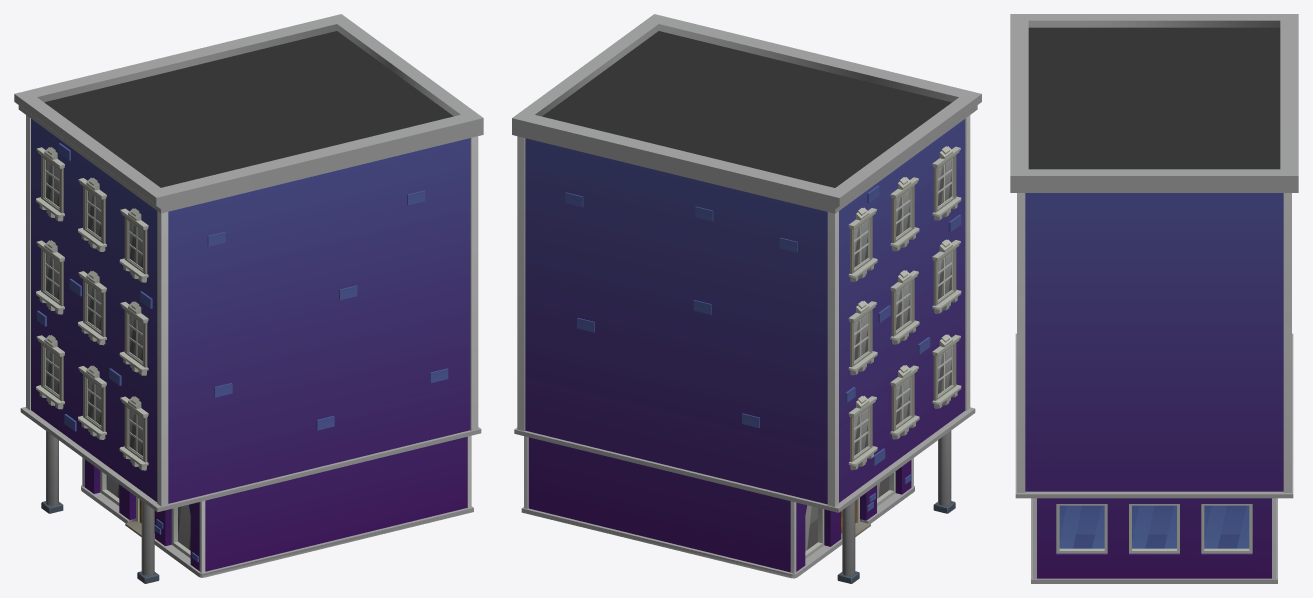
Rendered from Building_4_E.glb.
3 views of the same model, side by side, from view 1: azimuth 30°, elevation 25°; view 2: azimuth 150°, elevation 25°; view 3: azimuth 270°, elevation 25° (orthographic).
Parts seen in each view (by area): view 1: Building_4_E; view 2: Building_4_E; view 3: Building_4_E.
Boxes of the visible parts, <box> form: Building_4_E: <box>14,14,483,583</box>; Building_4_E: <box>512,14,981,583</box>; Building_4_E: <box>1010,14,1298,583</box>.
Bounding box in the file's own units: 15.85 × 18.55 × 11.91.
3 materials, 3 textured.
